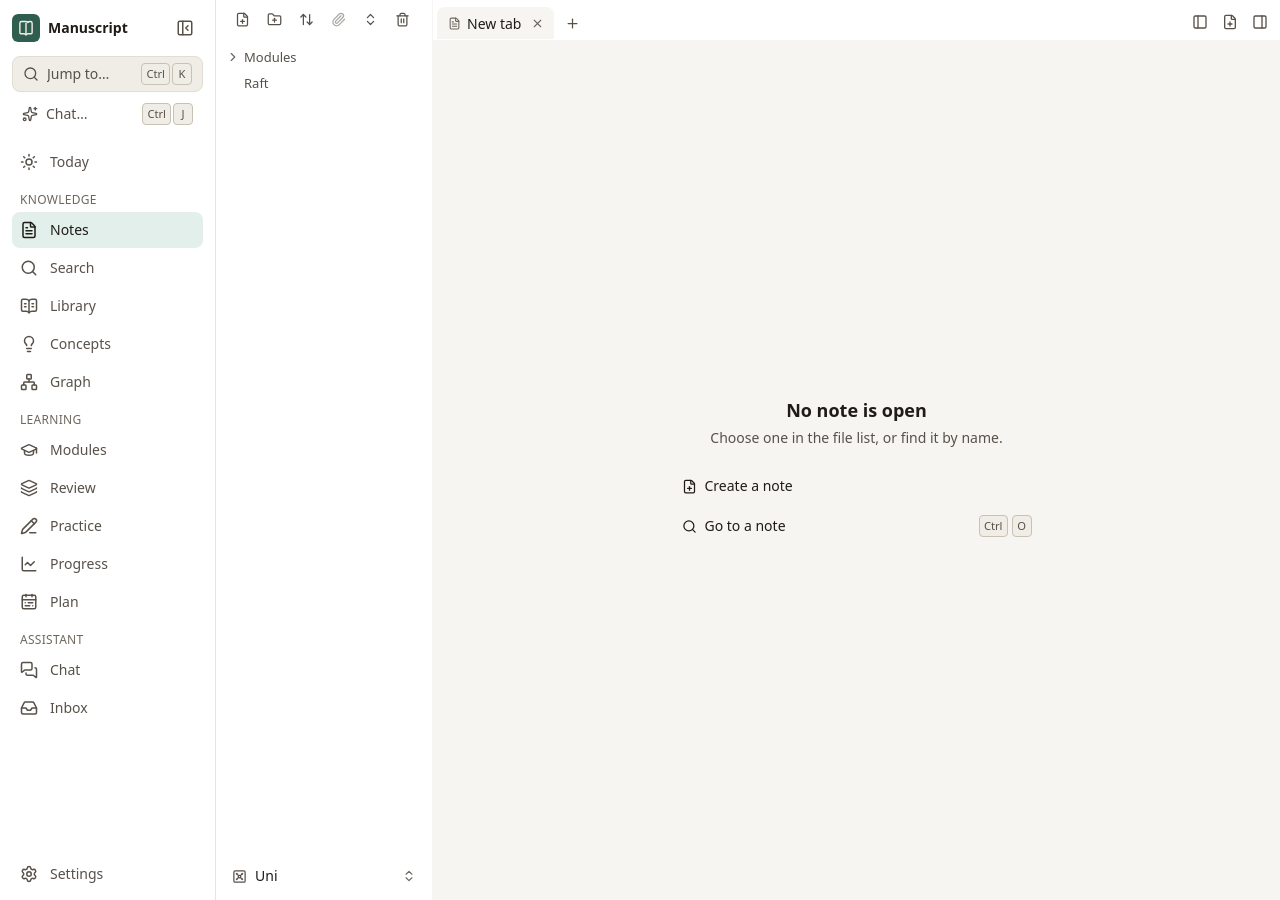
Test: Notes page › opens a note from the tree into its tab, with its outline in the Details panel
Click the list item "Raft". click: (256, 83)
box: x1=244 y1=74 x2=268 y2=92
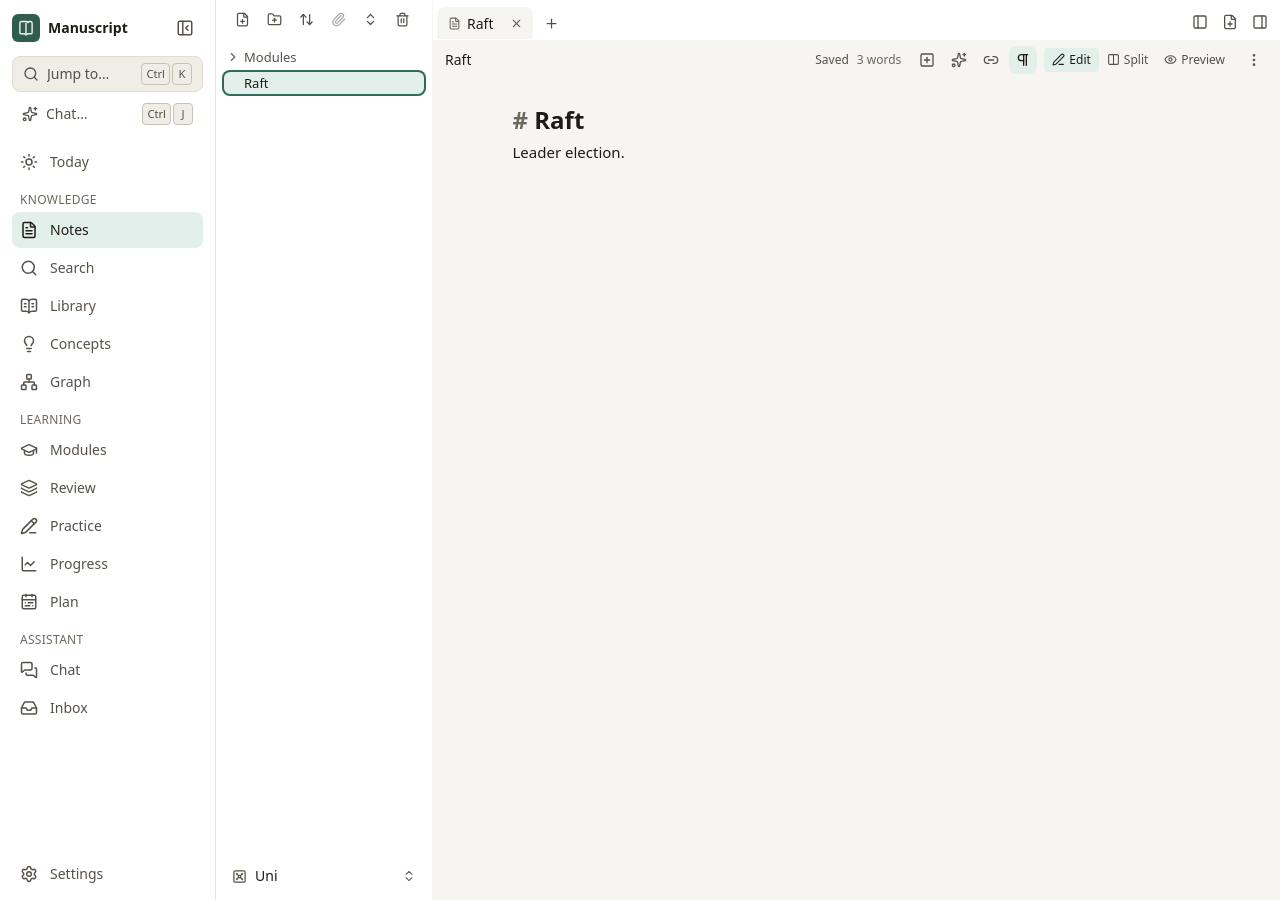
Check: the navigation bar "Outline" is not shown
Check: the field with class "cm-content" shows "Leader election.", box x1=512 y1=103 x2=625 y2=162
Check: the text "Saved" is shown, box x1=815 y1=52 x2=849 y2=68
Click the button named "Show details". click: (1260, 22)
box: x1=1246 y1=8 x2=1274 y2=36
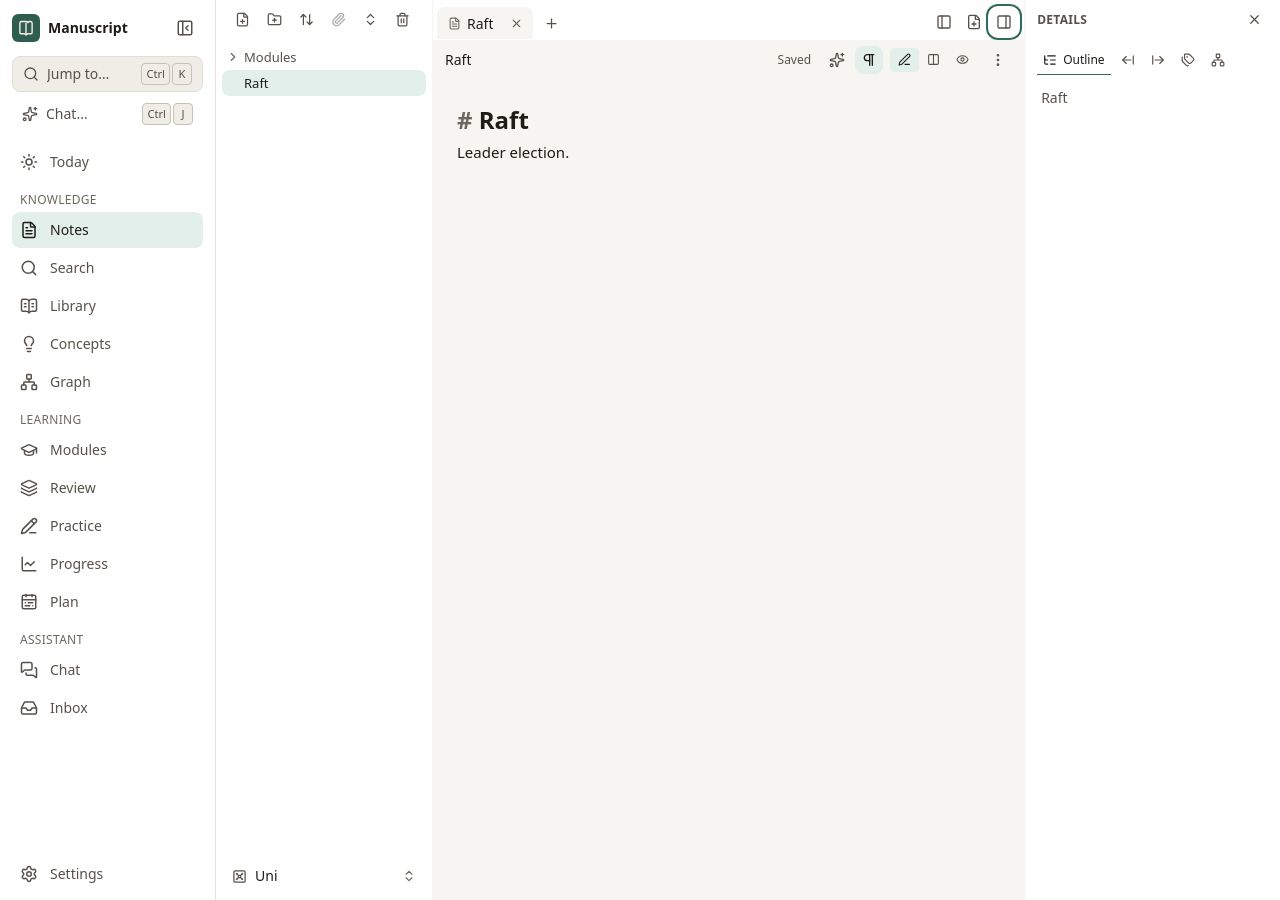
Check: the navigation bar named "Outline" reads "Raft", box x1=1033 y1=84 x2=1272 y2=112
